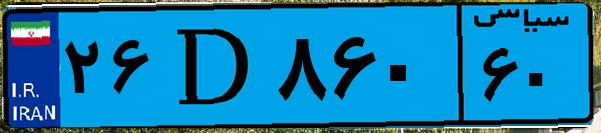0: (385, 28, 445, 110), (525, 38, 570, 115)
2: (57, 26, 110, 100)
6: (330, 28, 385, 110), (475, 38, 525, 113), (110, 28, 158, 98)
8: (270, 28, 330, 110)
D: (158, 12, 270, 120)
